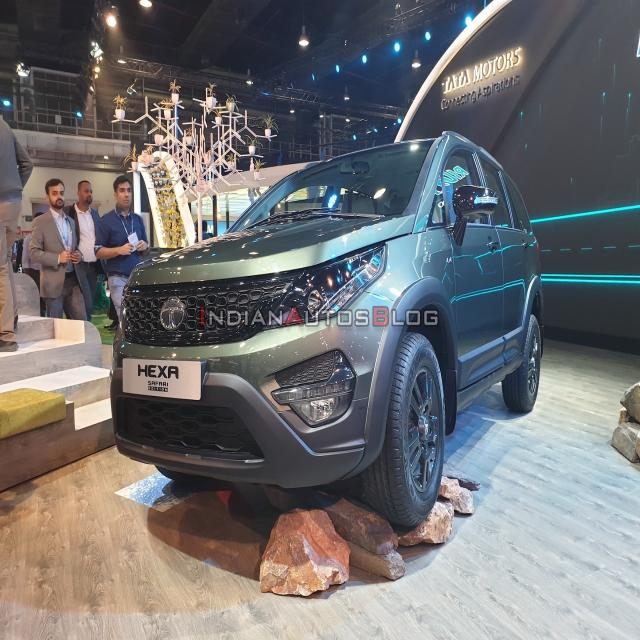car: (144, 135, 536, 497)
